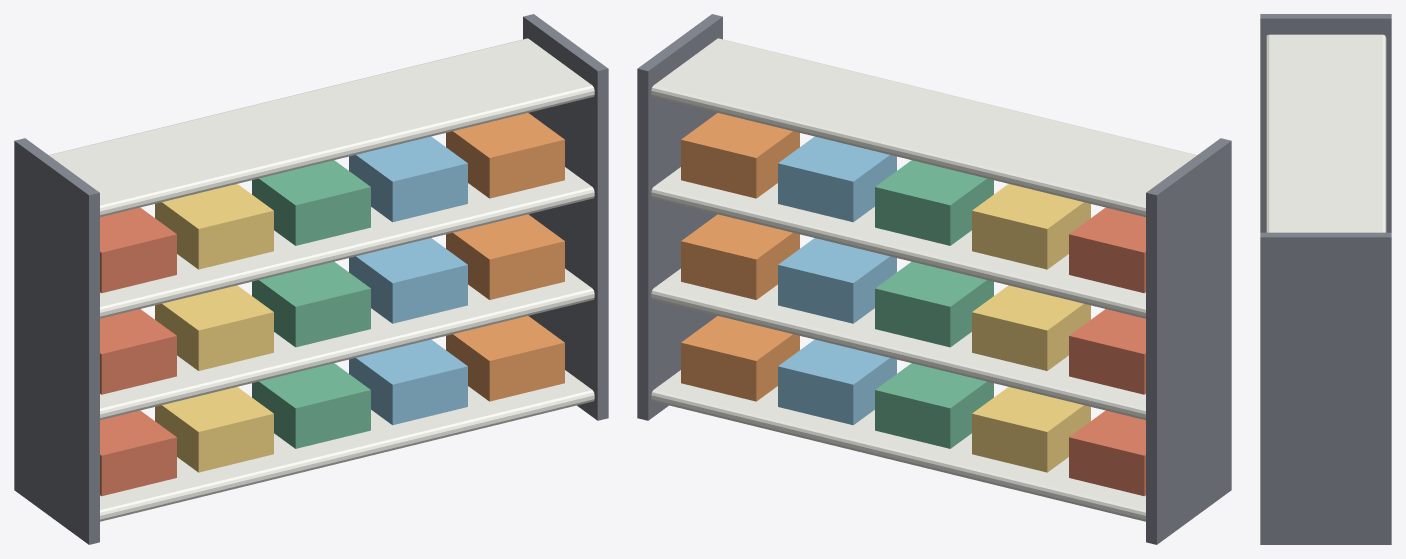
The model's file is int_rak.fbx.
3 views of the same model, side by side, from view 1: azimuth 30°, elevation 25°; view 2: azimuth 150°, elevation 25°; view 3: azimuth 270°, elevation 25° (orthographic). The views are drawn at different scales.
Parts seen in each view (by area): view 1: int_rak; view 2: int_rak; view 3: int_rak.
Part boxes in pixels (x1,y1,x2,y2): int_rak: (14, 14, 608, 544); int_rak: (637, 14, 1231, 544); int_rak: (1260, 14, 1391, 544).
Size of the model in its own units: 241 by 155 by 60.
Materials: 1 (1 with a texture image).
